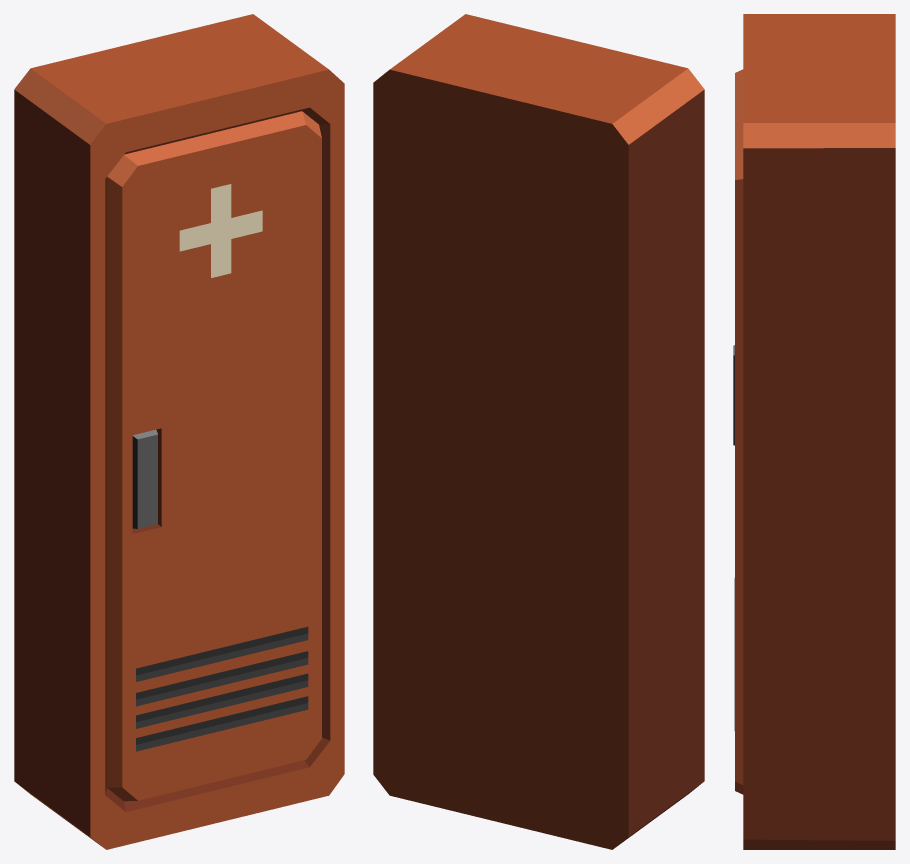
Rendered from CR_Locker_Emergency_Red.fbx.
3 views of the same model, side by side, from view 1: azimuth 30°, elevation 25°; view 2: azimuth 150°, elevation 25°; view 3: azimuth 270°, elevation 25° (orthographic).
Parts seen in each view (by area): view 1: Locker_Emergency_Red_Door, CR_Locker_Emergency_Red; view 2: CR_Locker_Emergency_Red; view 3: CR_Locker_Emergency_Red, Locker_Emergency_Red_Door.
Boxes of the visible parts, bbox=[...] form: Locker_Emergency_Red_Door: bbox=[107, 111, 321, 801]; CR_Locker_Emergency_Red: bbox=[14, 14, 344, 849]; CR_Locker_Emergency_Red: bbox=[373, 14, 704, 849]; CR_Locker_Emergency_Red: bbox=[743, 14, 895, 849]; Locker_Emergency_Red_Door: bbox=[733, 69, 743, 794].
Size of the model in its own units: 0.6626 by 1.8 by 0.3639.
